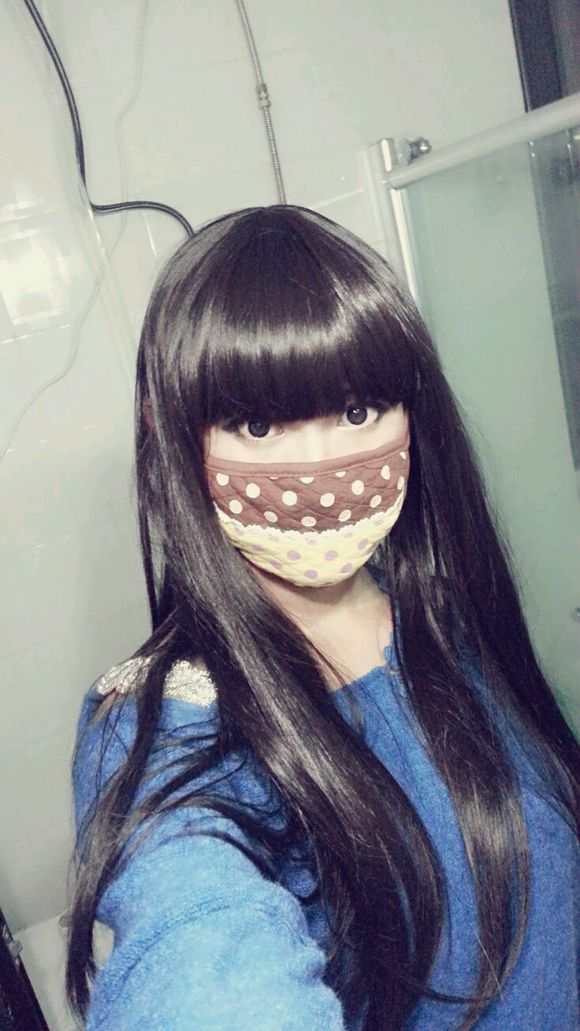face_mask: (203, 348, 418, 594)
